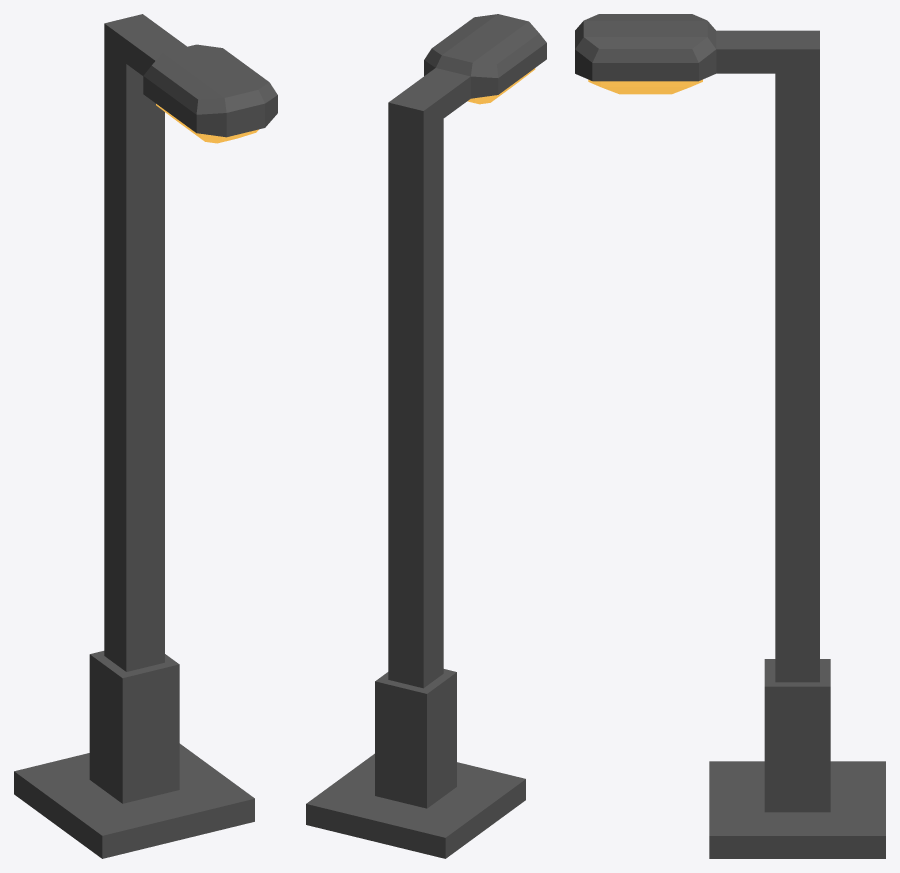
The model's file is Lamp.glb.
3 views of the same model, side by side, from view 1: azimuth 30°, elevation 25°; view 2: azimuth 150°, elevation 25°; view 3: azimuth 270°, elevation 25° (orthographic). The views are drawn at different scales.
Parts seen in each view (by area): view 1: Cube; view 2: Cube; view 3: Cube, Cube.001.
Boxes of the visible parts, <box> form: Cube: <box>14,14,277,858</box>; Cube: <box>306,14,546,858</box>; Cube: <box>575,14,885,858</box>; Cube.001: <box>588,79,702,94</box>.
Size of the model in its own units: 2 by 9.91 by 3.52.
